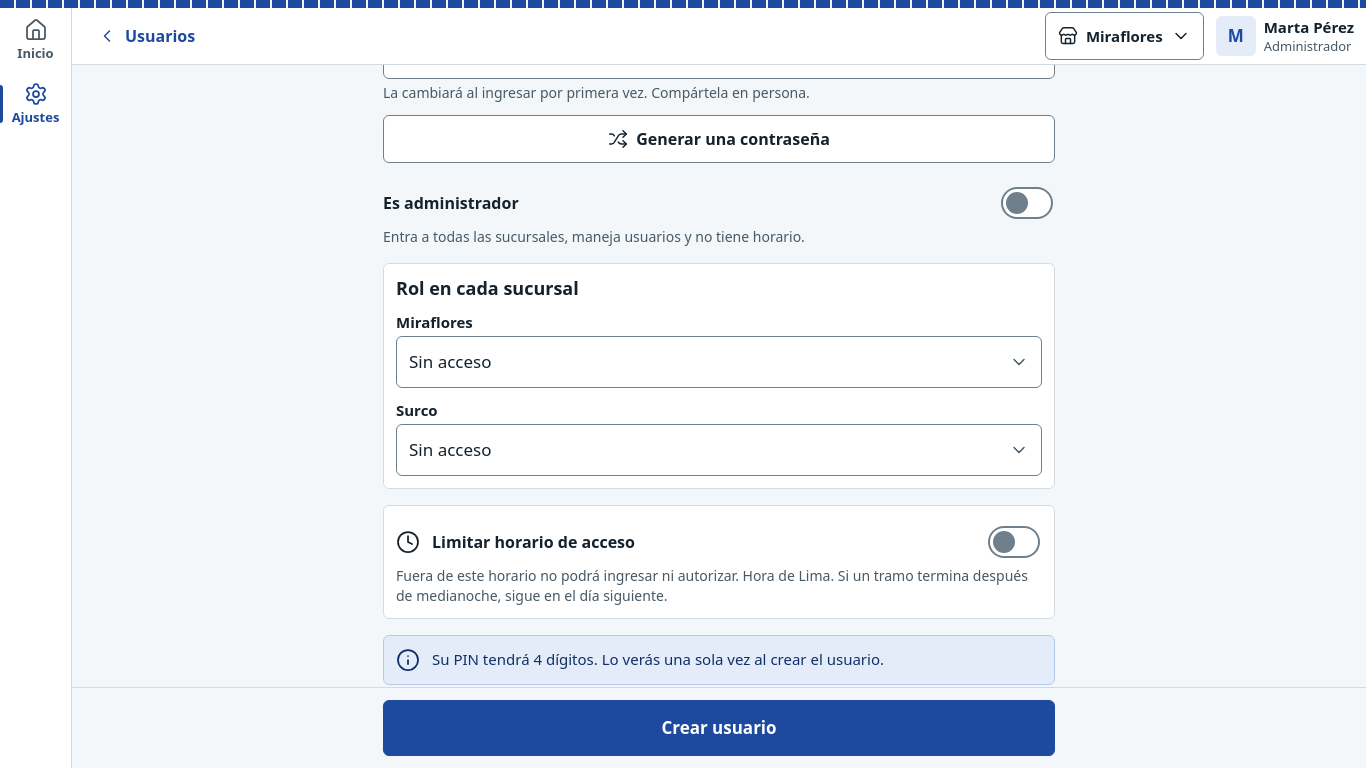
Test: alta de usuario › no deja crear sin lo mínimo y lo dice campo por campo
The width and height of the screenshot is (1366, 768).
(page scrolled)
Click the button "Crear usuario". click: (719, 728)
box: [383,700,1055,756]
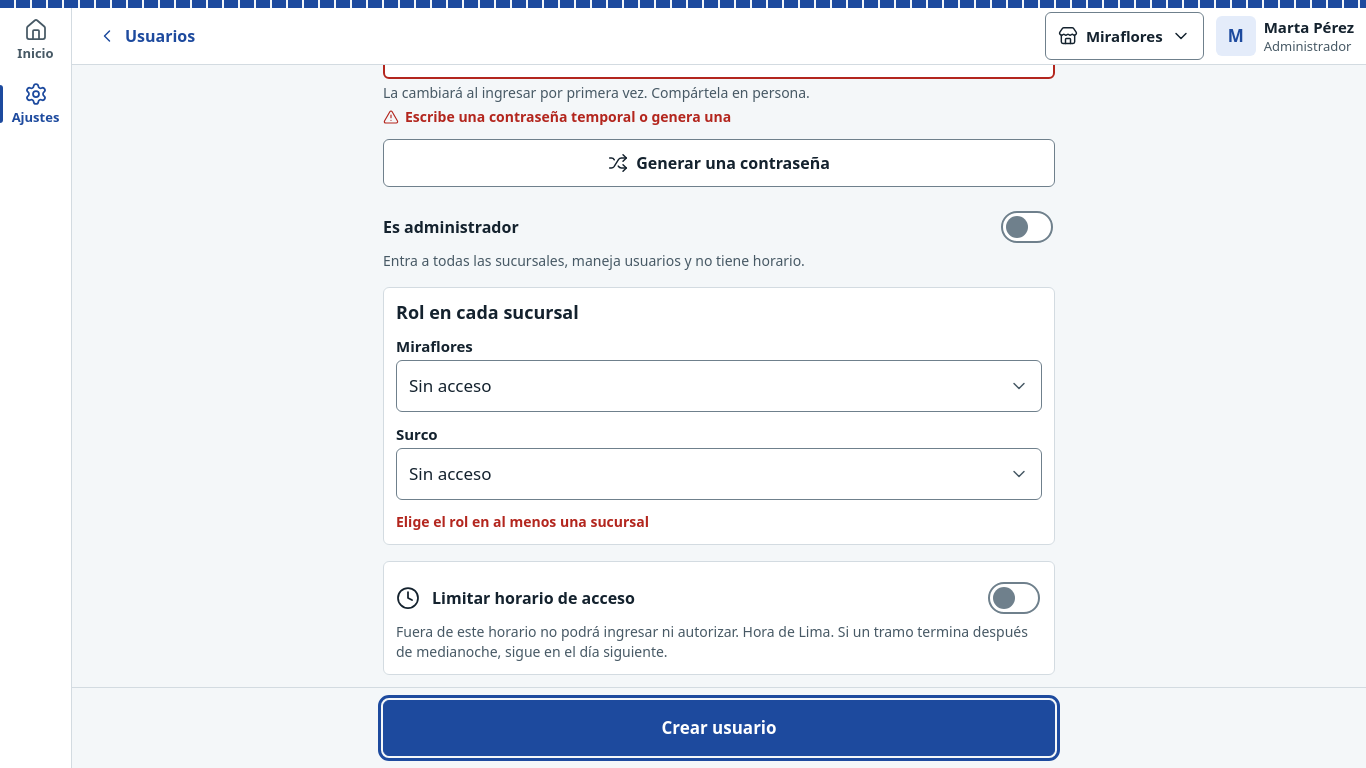
Now the text "Elige el rol en al menos una sucursal" is shown, box [396,512,649,531]
